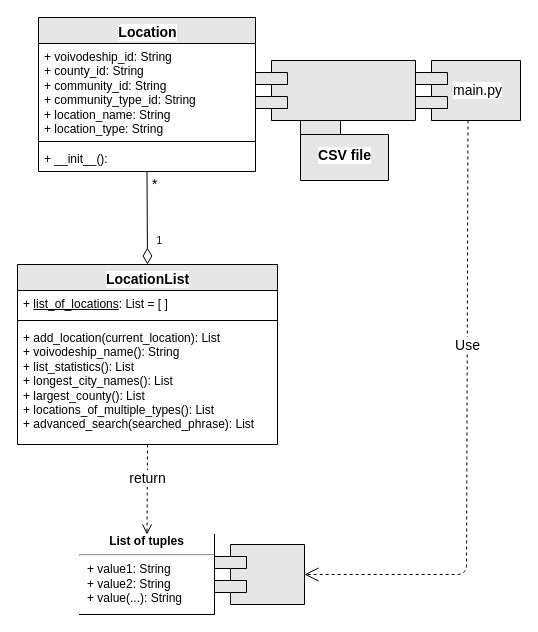
The diagram is 538 pixels wide and 632 high, and some of its shapes have lost their labels. The centre of each missing label's shape, as x and y in pixels:
data_manager.py: [335,90]
ui.py: [259,574]
